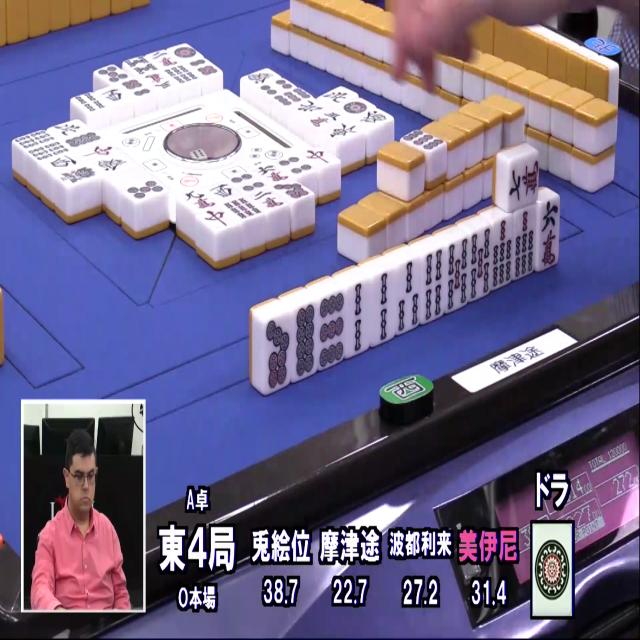m6: (536, 196, 559, 272)
m7: (506, 153, 539, 203)
s2: (345, 282, 374, 358), (369, 269, 396, 346)
s3: (397, 260, 425, 336)
s4: (420, 249, 447, 326)
s5: (444, 239, 472, 314), (468, 229, 494, 305)
s7: (513, 208, 538, 282), (491, 216, 515, 291)
t1: (534, 527, 571, 613)
t7: (260, 316, 294, 395)
t8: (290, 303, 316, 381)
t9: (317, 290, 350, 370), (402, 127, 446, 156)
